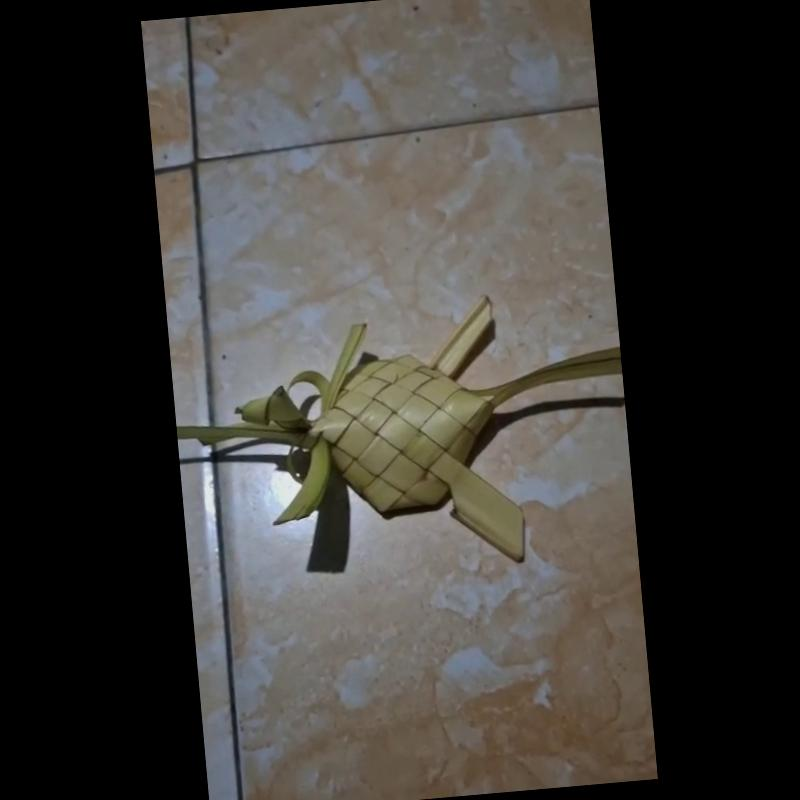Tipat Dampulan: (226, 286, 624, 571)
